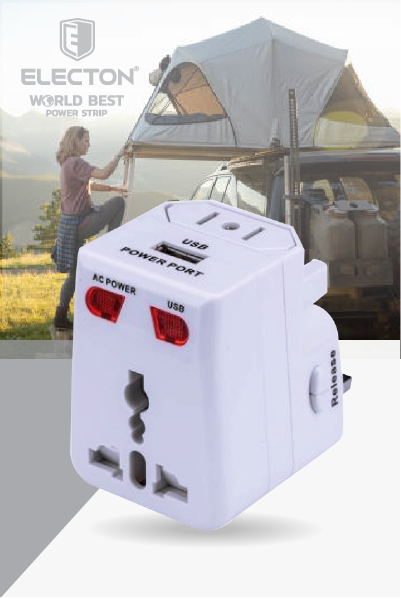Three_eye_plug: (49, 188, 364, 552)
